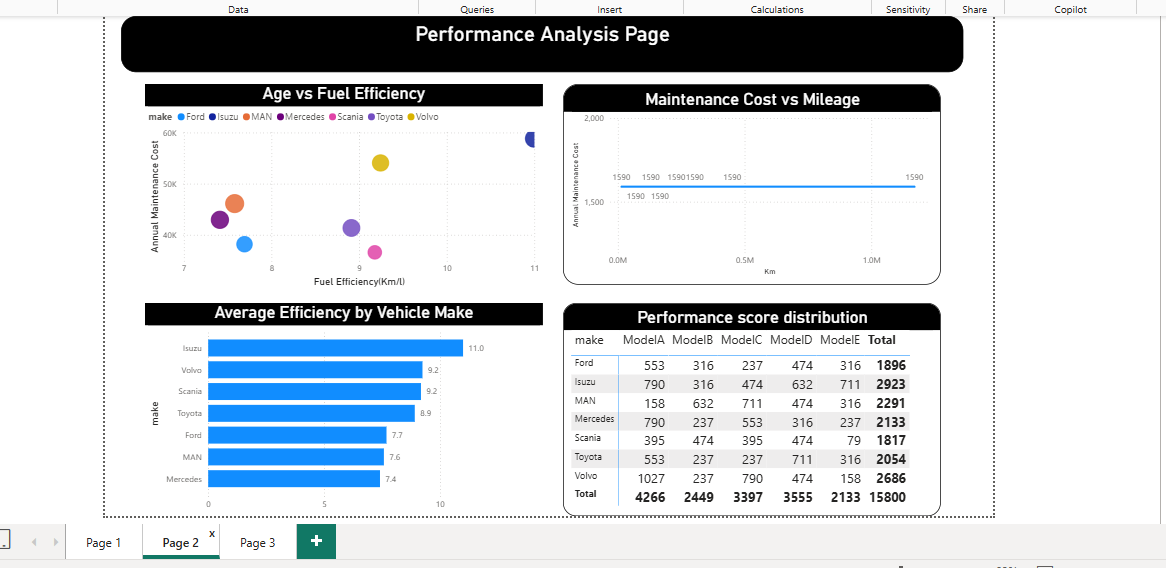

Layout of this report page (visuals, bound fields, positions):
{"tool":"powerbi","page":{"name":"Page 2","canvas":[1280,720],"ordinal":1},"visuals":[{"type":"scatterChart","title":"Age vs Fuel Efficiency","fields":{"X":["Avg(fleet_project_datasets_fixed_new.fuel_efficiency_km_l)"],"Y":["Sum(fleet_project_datasets_fixed_new.annual_maintenance_cost)"],"Size":["Sum(fleet_project_datasets_fixed_new.current_mileage_km)"],"Series":["fleet_project_datasets_fixed_new.make"]},"box":[57.1,97.4,572.8,297.3],"z":0},{"type":"barChart","title":"Average Efficiency by Vehicle Make","fields":{"Y":["Avg(fleet_project_datasets_fixed_new.fuel_efficiency_km_l)"],"Category":["fleet_project_datasets_fixed_new.make"]},"box":[57.1,413.2,572.8,307.4],"z":1000},{"type":"lineChart","title":" Maintenance Cost vs Mileage","fields":{"Y":["Sum(fleet_project_datasets_fixed_new.annual_maintenance_cost)"],"Category":["fleet_project_datasets_fixed_new.current_mileage_km"]},"box":[660.2,97.4,544.3,288.9],"z":2000},{"type":"pivotTable","title":"Performance score distribution","fields":{"Rows":["fleet_project_datasets_fixed_new.make"],"Columns":["fleet_project_datasets_fixed_new.model","fleet_project_datasets_fixed_new.vehicle_type"],"Values":["Sum(fleet_project_datasets_fixed_new.driver_performance_score)"]},"box":[660.2,413.2,544.3,307.4],"z":3000},{"type":"textbox","title":"Performance Analysis Page","box":[23.5,0,1212.8,80.6],"z":3001}]}

Visuals, with their boxes on the page's 1280x720 design canvas (x1, y1, x2, y2). These are canvas units, not pixel positions in the 1166x568 screenshot, which may show the page scaled, cropped or inside an application window:
"Age vs Fuel Efficiency" scatterChart: box=[57, 97, 630, 395]
"Average Efficiency by Vehicle Make" barChart: box=[57, 413, 630, 721]
" Maintenance Cost vs Mileage" lineChart: box=[660, 97, 1204, 386]
"Performance score distribution" pivotTable: box=[660, 413, 1204, 721]
"Performance Analysis Page" textbox: box=[24, 0, 1236, 81]
